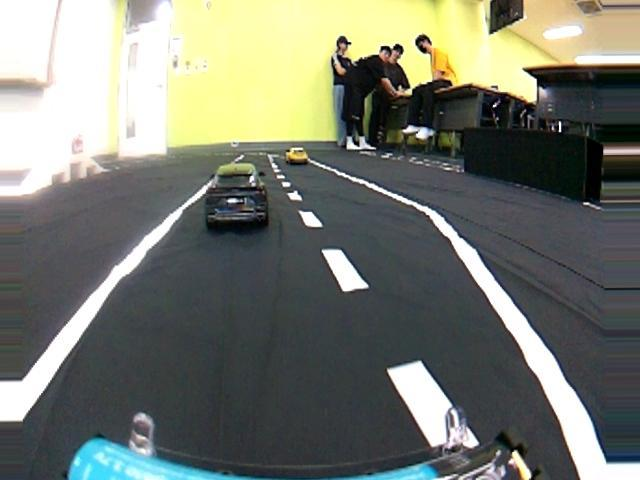car: (204, 156, 277, 234), (284, 149, 308, 168)
straight: (4, 231, 454, 479)
